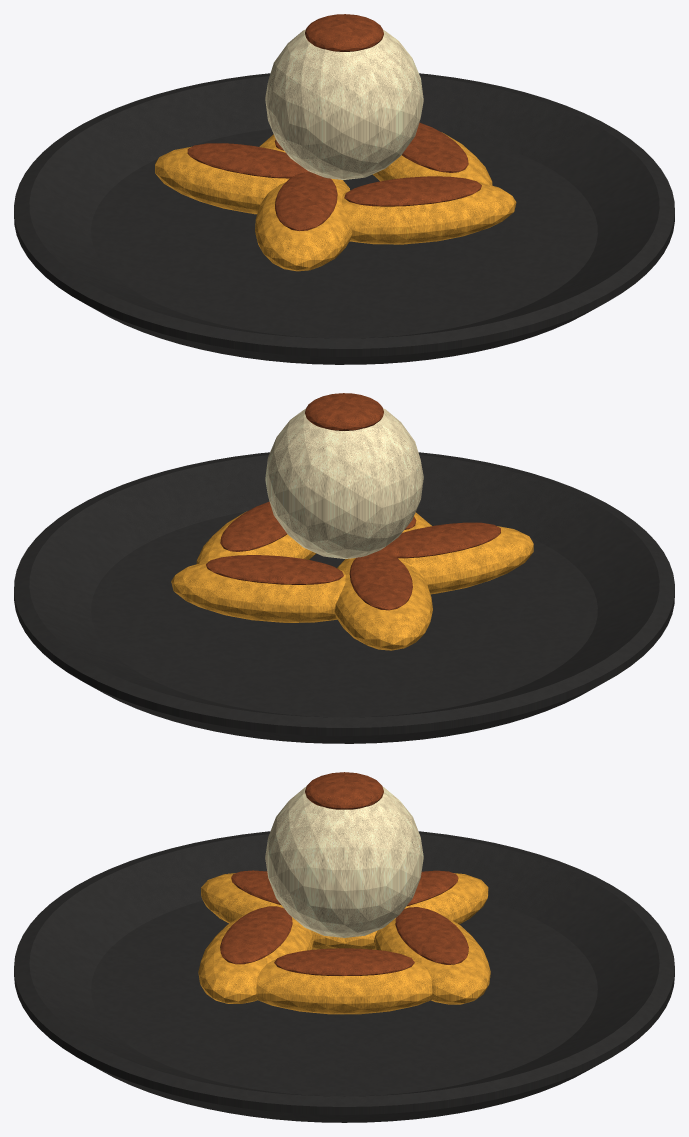
The model's file is tentacion-maduro.glb.
3 renders of one model, top to bottom at view 1: azimuth 30°, elevation 25°; view 2: azimuth 150°, elevation 25°; view 3: azimuth 270°, elevation 25°, orthographic.
Visible parts, largest first — view 1: part0, part3, part1, part2; view 2: part0, part3, part1, part2; view 3: part0, part1, part3, part2.
Boxes of the visible parts, box(x1,y1,x2,y2) form: part0: box(14, 73, 674, 364); part3: box(265, 29, 423, 179); part1: box(155, 132, 516, 271); part2: box(187, 14, 481, 231); part0: box(14, 452, 674, 743); part3: box(265, 408, 423, 558); part1: box(171, 511, 533, 650); part2: box(206, 393, 500, 610); part0: box(14, 831, 674, 1122); part1: box(198, 873, 490, 1014); part3: box(265, 787, 423, 937); part2: box(220, 772, 468, 975).
Bounding box in the file's own units: 0.3 × 0.116 × 0.3.
4 materials, 4 textured.
